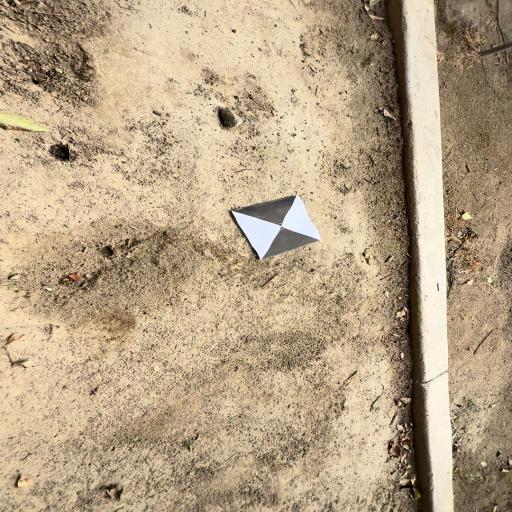target: (235, 195, 321, 260)
